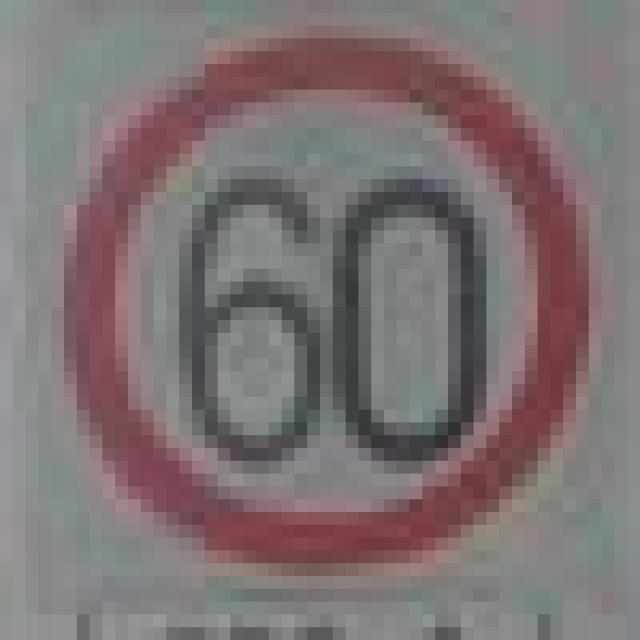SPEED_LIMIT_60: (51, 38, 576, 550)
